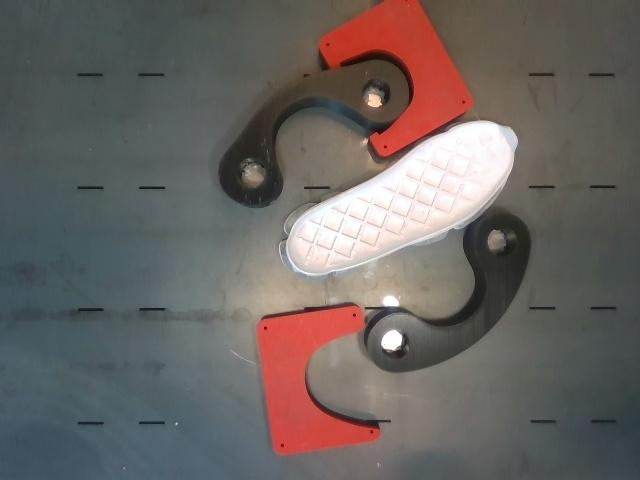shoes: (287, 123, 517, 274)
